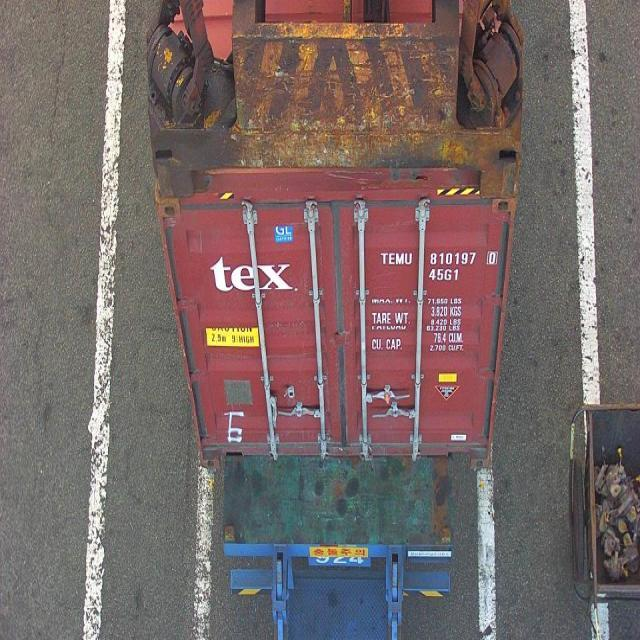ISO: (428, 266, 460, 282)
container_number: (380, 248, 500, 268)
